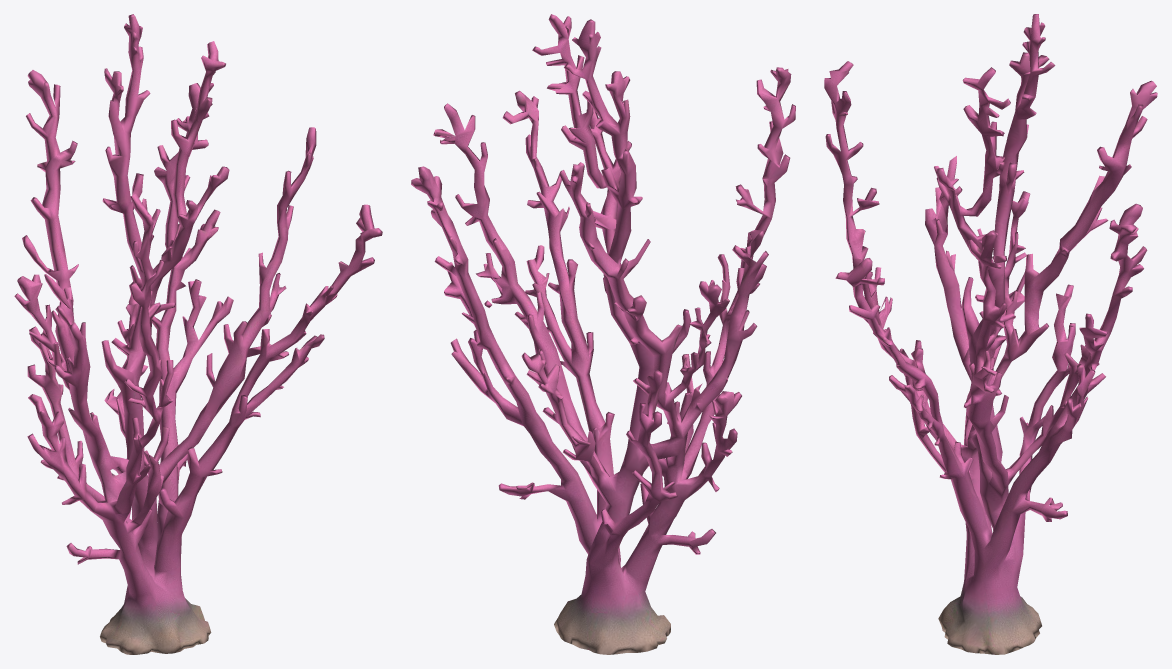
File: coral-fan.glb
The picture shows the model from 3 angles, left to right: view 1: azimuth 30°, elevation 25°; view 2: azimuth 150°, elevation 25°; view 3: azimuth 270°, elevation 25°; orthographic projection. The views are drawn at different scales.
Size of the model in its own units: 0.4844 by 0.9526 by 0.4683.
Materials: 1 (1 with a texture image).
